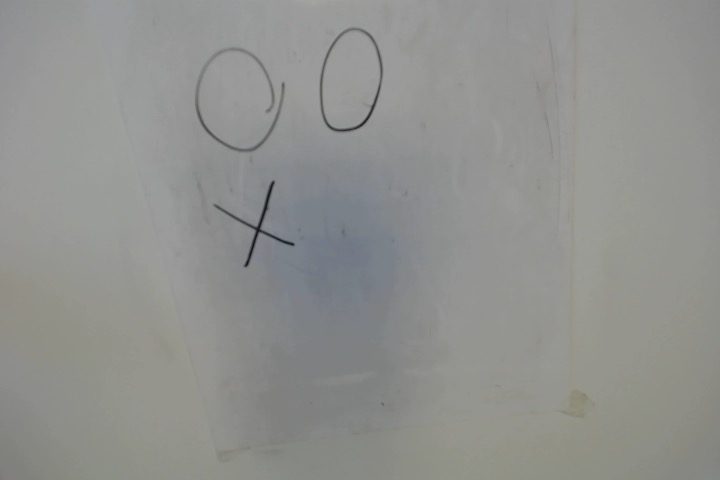0: (187, 42, 291, 158), (318, 22, 387, 138)
x: (207, 182, 298, 268)
